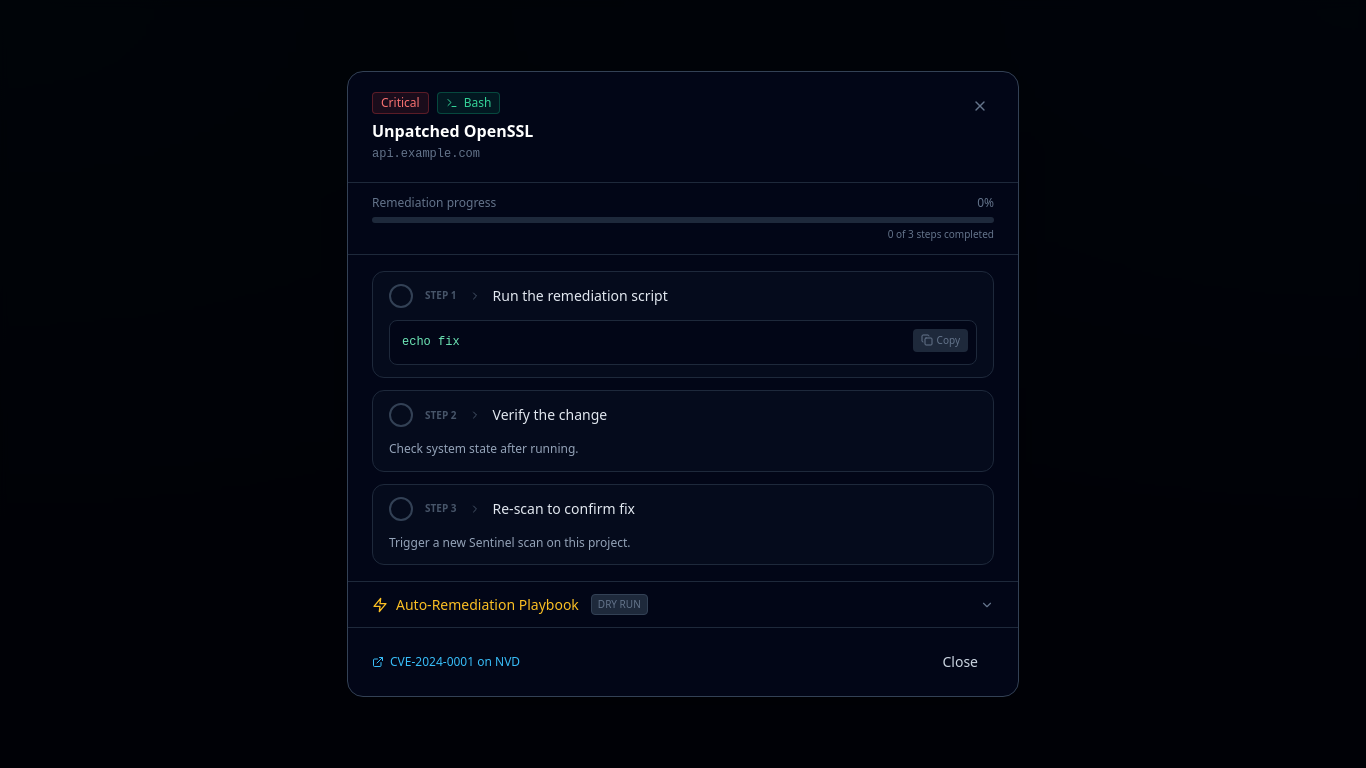
Test: RemediationModal — progress & steps › toggles step completion and updates progress
Click the button "STEP 1 Run the remediation script" at (580, 295), box [373, 272, 993, 320]
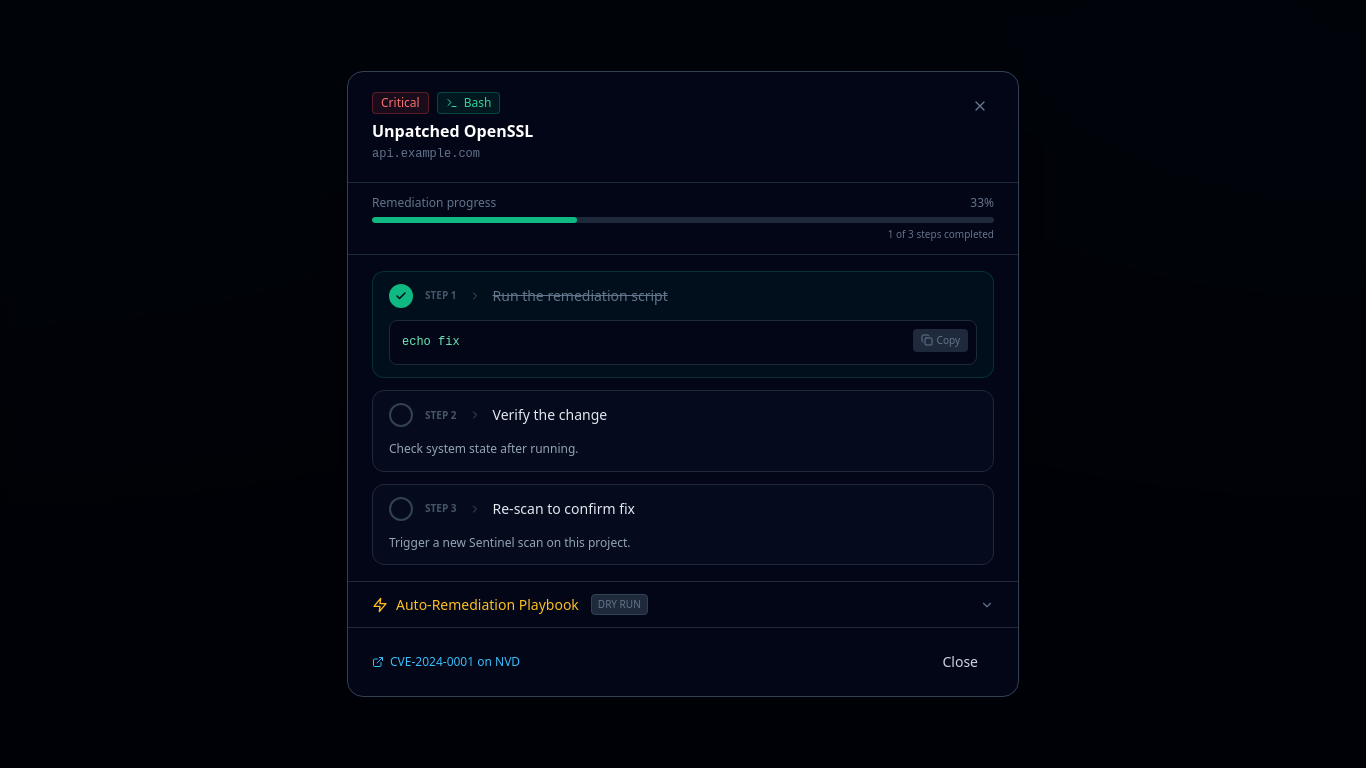
Now the text "33%" is shown, box [970, 195, 994, 211]
